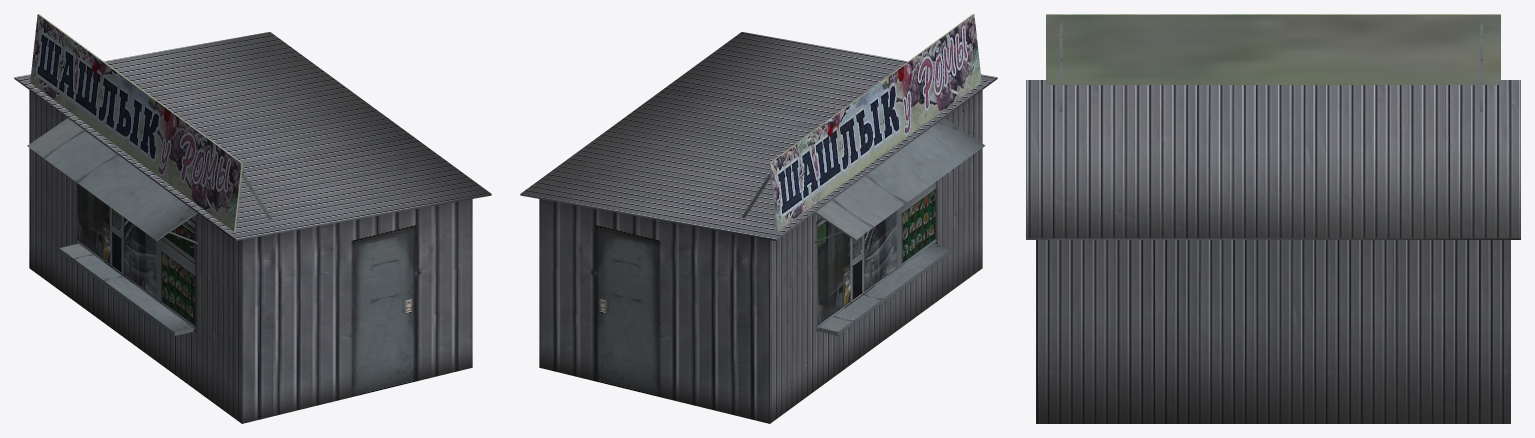
Rendered from omsk_kafe3.FBX.
3 renders of one model, left to right at view 1: azimuth 30°, elevation 25°; view 2: azimuth 150°, elevation 25°; view 3: azimuth 270°, elevation 25°, orthographic. The views are drawn at different scales.
Visible parts, largest first — view 1: omsk_kafe3; view 2: omsk_kafe3; view 3: omsk_kafe3.
Part boxes in pixels (x1,y1,x2,y2): omsk_kafe3: (14, 14, 491, 423); omsk_kafe3: (520, 14, 997, 423); omsk_kafe3: (1026, 14, 1520, 423).
Bounding box in the file's own units: 3.87 × 5.13 × 3.27.
